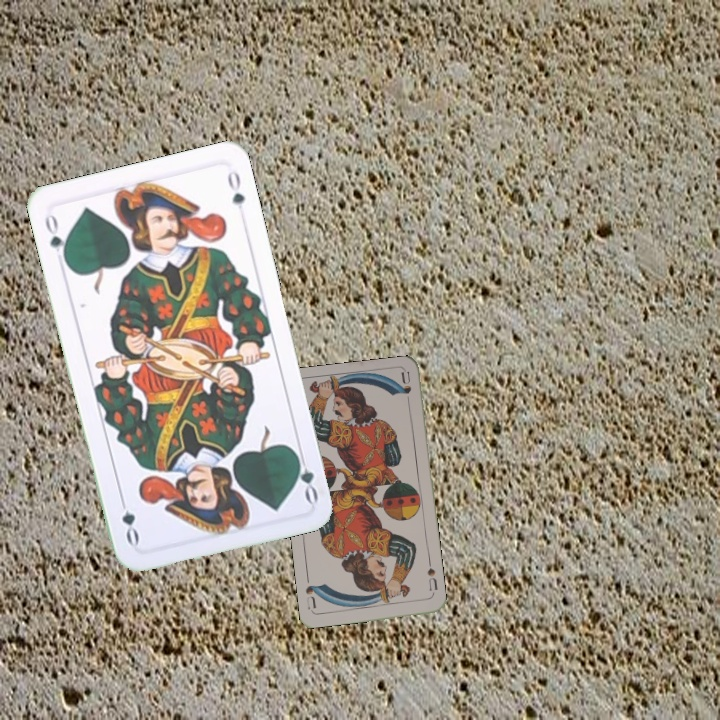GO: (290, 446, 321, 506), (41, 208, 70, 266)
SU: (423, 564, 440, 593)
